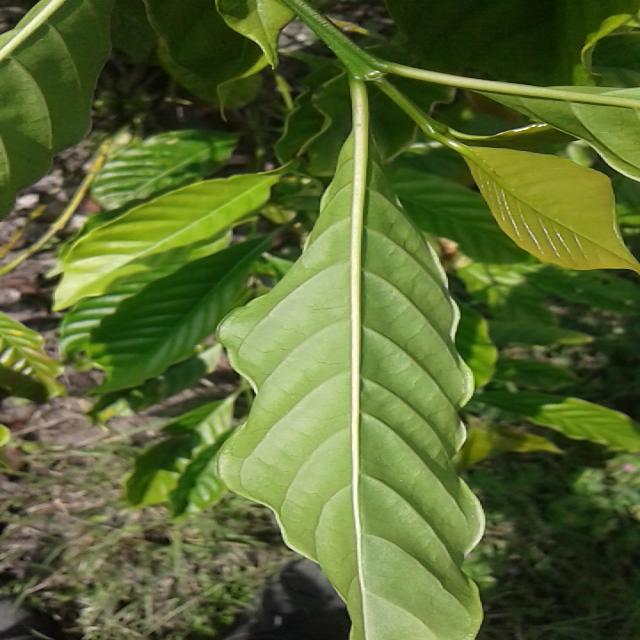Sanas: (214, 148, 488, 640)
